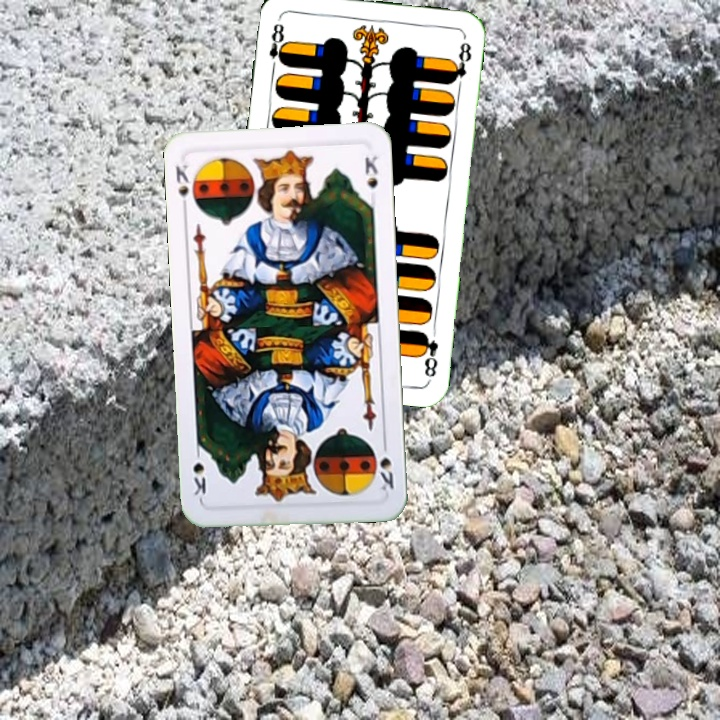E8: (265, 19, 290, 74), (416, 327, 441, 380)
SK: (375, 436, 396, 495), (171, 160, 193, 214)
